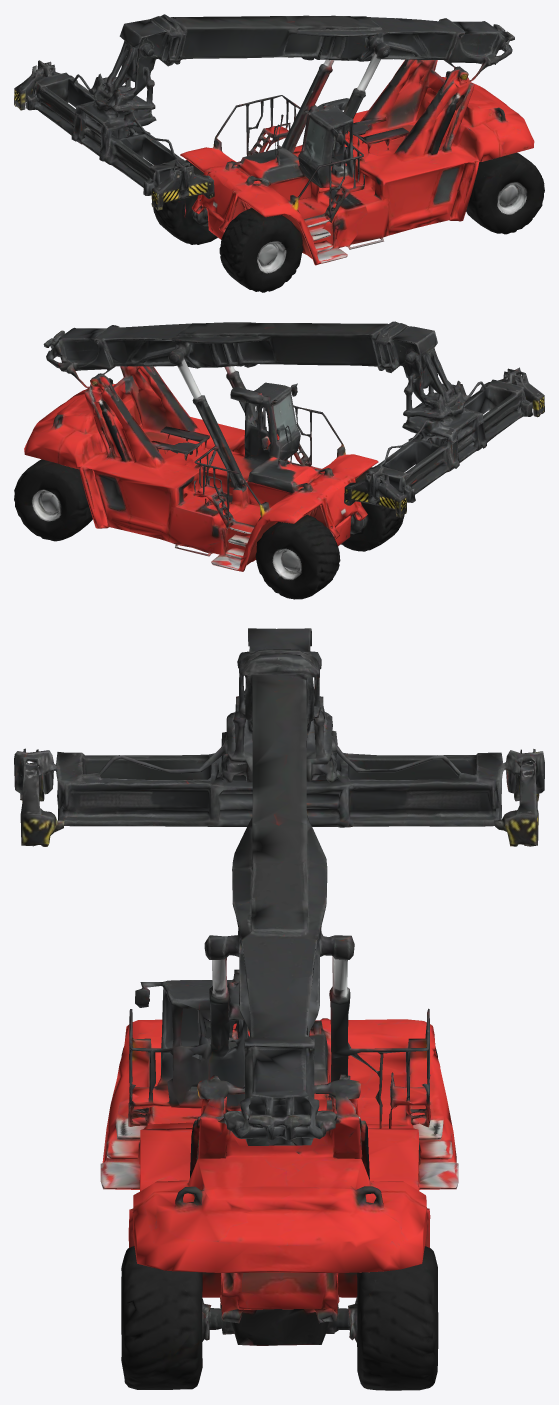
File: reach-stacker.glb
The picture shows the model from 3 angles, top to bottom: view 1: azimuth 30°, elevation 25°; view 2: azimuth 150°, elevation 25°; view 3: azimuth 270°, elevation 25°; orthographic projection. The views are drawn at different scales.
Bounding box in the file's own units: 1.9 × 1.11 × 1.15.
1 material, 1 textured.
